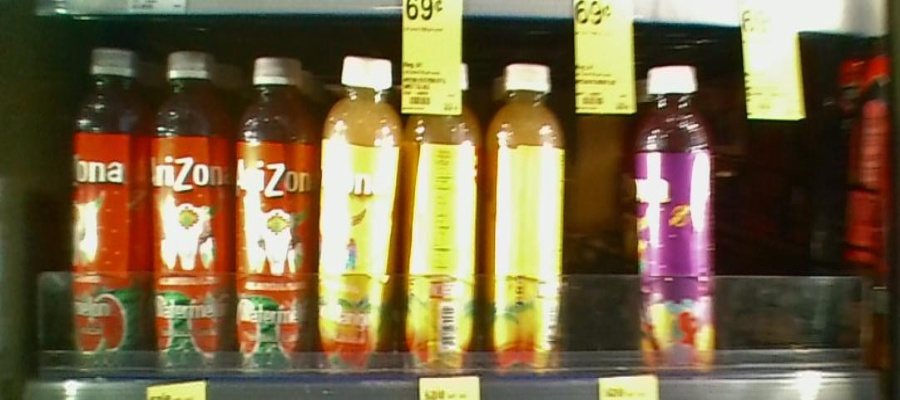bottle: (151, 44, 233, 381), (635, 48, 720, 371), (484, 52, 567, 374), (321, 45, 401, 379), (236, 53, 319, 373), (404, 44, 482, 383), (71, 43, 149, 374)
